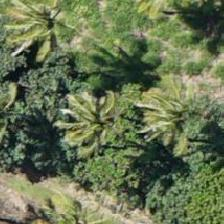coconut_tree: (132, 70, 222, 160), (51, 76, 141, 166), (4, 0, 94, 66)
